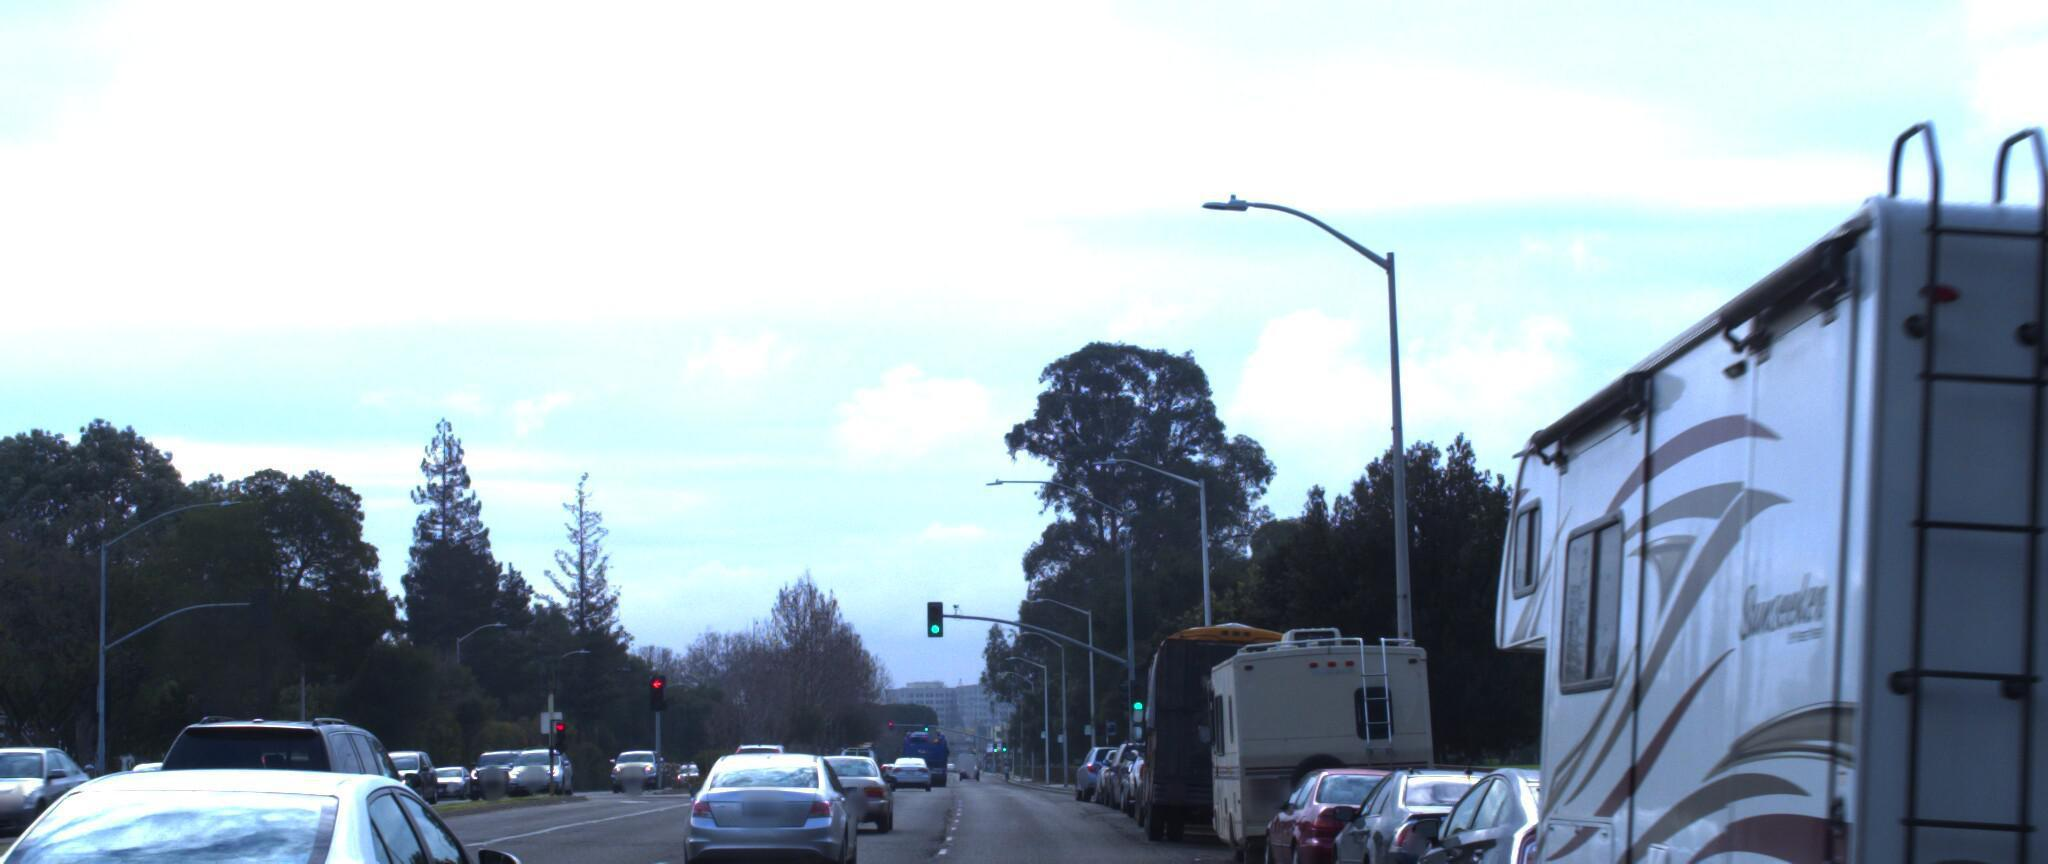bus: (1132, 606, 1320, 826)
car: (0, 733, 556, 864), (123, 701, 451, 864), (1370, 736, 1768, 864), (1311, 737, 1597, 864), (1245, 740, 1465, 864), (664, 735, 867, 864), (0, 760, 106, 859), (792, 741, 903, 827)
other_vehicle: (1416, 86, 2048, 864), (1192, 619, 1452, 854)
